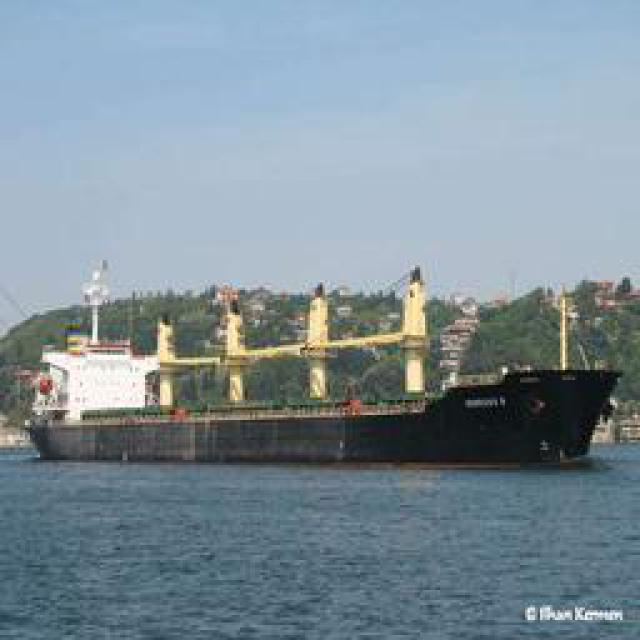Ship: (14, 326, 627, 471)
